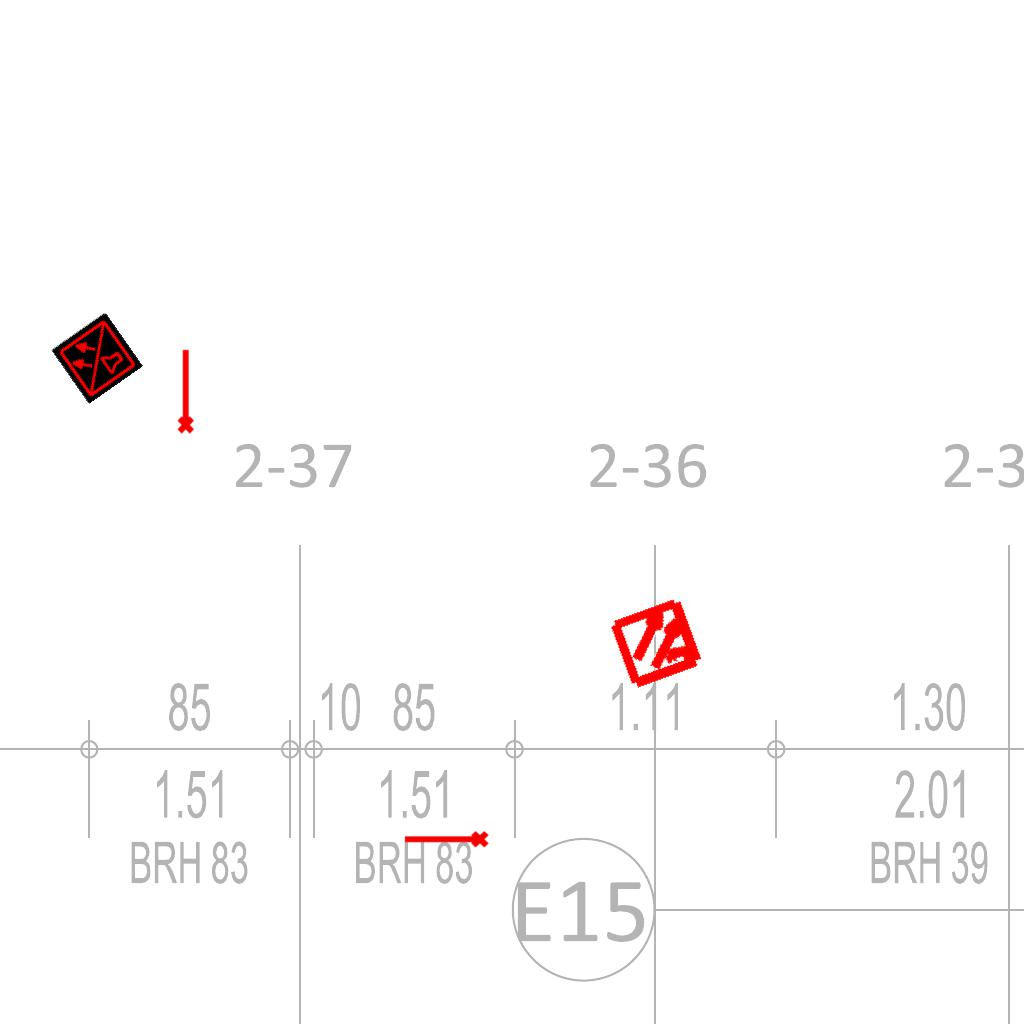ASR_Ansaugoeffnung: (402, 829, 490, 852), (173, 347, 196, 435)
OKW_Multisensormelder_(Kombination_optischer_Rauch-Kahlenmonoxid_Waerme-Melder): (51, 312, 143, 404)
OT_Multisensormelder_(Kombination_RMO_WMD): (586, 570, 731, 715)
